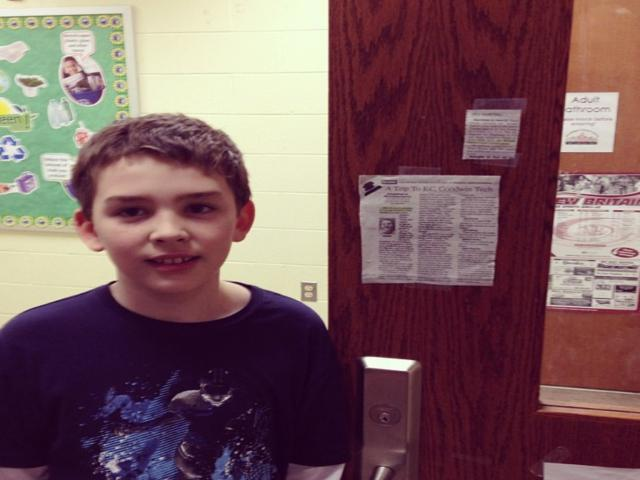Door-handle: (344, 350, 421, 479)
